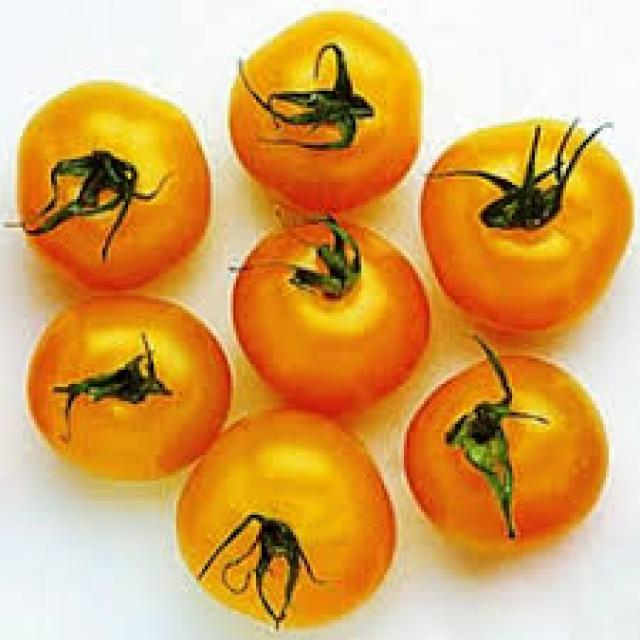organic waste: (176, 407, 392, 626), (418, 111, 629, 330), (404, 338, 606, 554), (230, 210, 427, 416), (14, 80, 208, 287), (228, 8, 418, 214), (22, 293, 228, 478)
